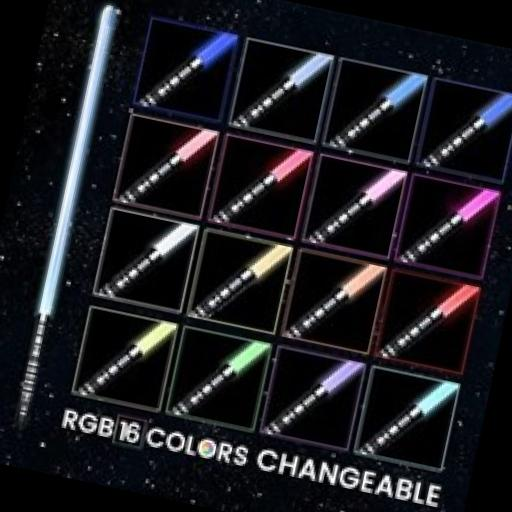lightsaber: (7, 3, 122, 424)
